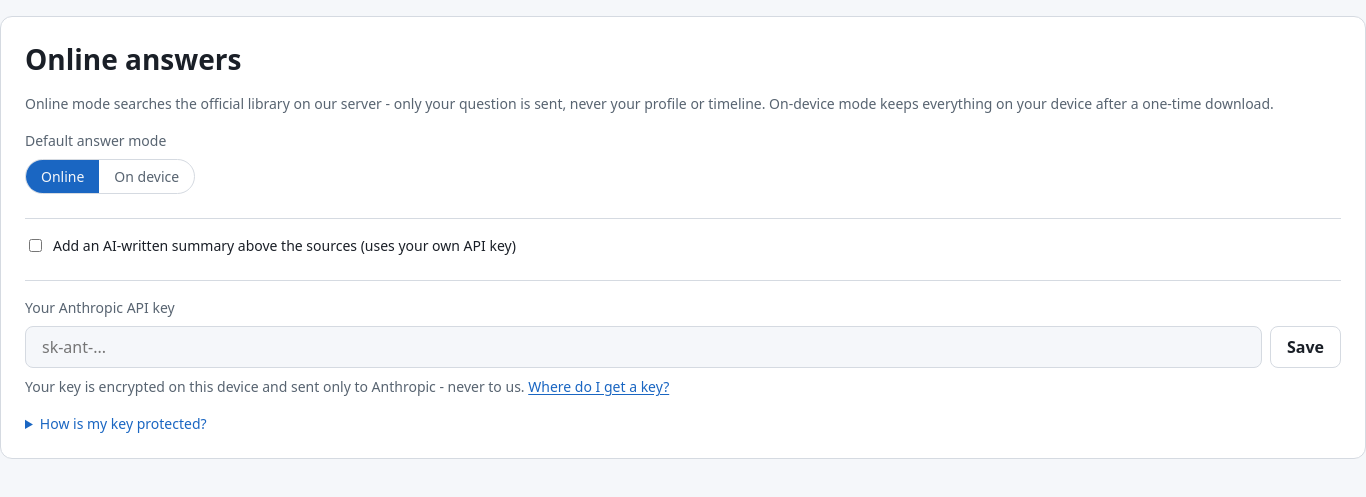
Test: OnlineAnswersPanel › a value that is not an Anthropic key › a value not starting sk-ant- is refused, cleared and not saved
This screenshot has width=1366, height=497.
In the password field with class "online-key__input": (644, 347) [25,326,1262,368], type "sk-test-key"
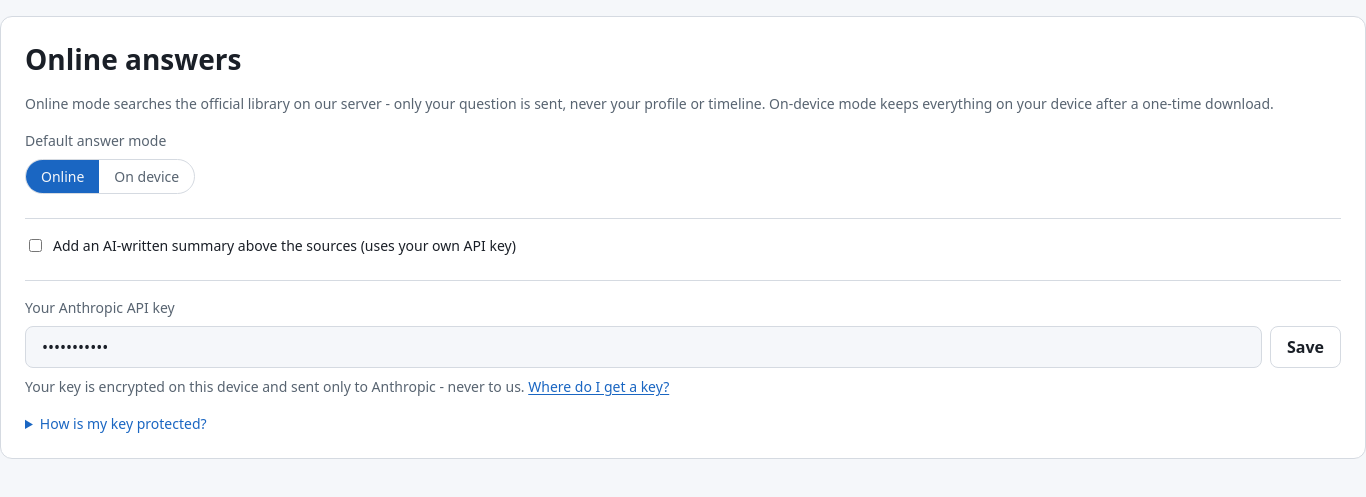
Click the button with class "online-key__save": (1306, 347) [1270,326,1341,368]
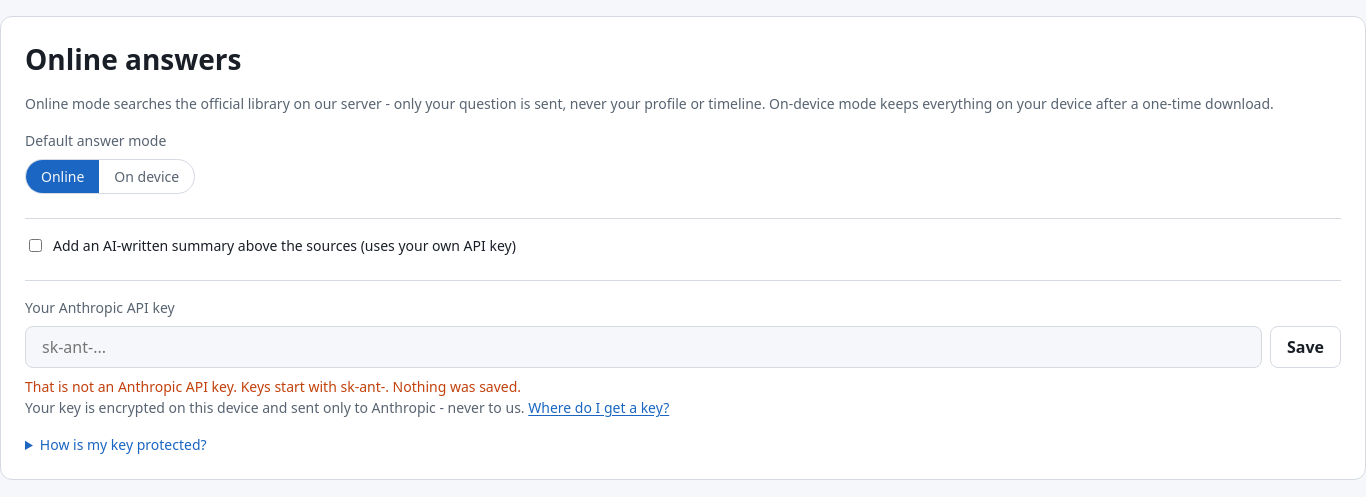
Expected: the password field with class "online-key__input" is empty, [25,326,1262,368]
Expected: the message with class "online-key__error" reads "That is not an Anthropic API key. Keys start with sk-ant-. Nothing was saved.", [25,377,521,396]
